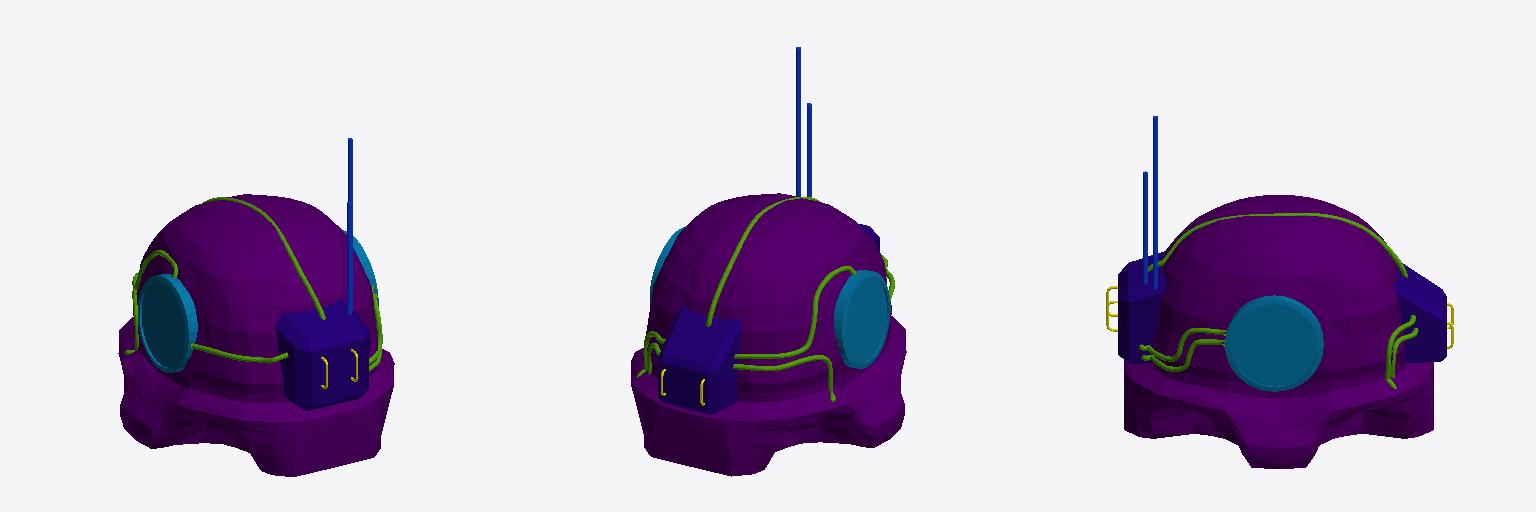
The model's file is rover.obj.
The picture shows the model from 3 angles: view 1: azimuth 30°, elevation 25°; view 2: azimuth 150°, elevation 25°; view 3: azimuth 270°, elevation 25°; orthographic projection.
Parts seen in each view (by area): view 1: body, boxes, windows, cables, antenas; view 2: body, boxes.001, windows, cables, antenas; view 3: body, windows, boxes, boxes.001, cables, antenas.
Boxes of the visible parts, box(x1,y1,x2,y2) form: body: box(118, 194, 394, 476); boxes: box(275, 299, 369, 410); windows: box(138, 230, 378, 372); cables: box(124, 197, 382, 371); antenas: box(347, 138, 352, 314); body: box(631, 193, 906, 476); boxes.001: box(658, 304, 740, 414); windows: box(650, 227, 890, 368); cables: box(636, 197, 894, 401); antenas: box(796, 47, 811, 196); body: box(1124, 195, 1433, 468); windows: box(1225, 295, 1323, 391); boxes: box(1118, 251, 1167, 363); boxes.001: box(1393, 263, 1446, 362); cables: box(1139, 213, 1418, 388); antenas: box(1143, 116, 1157, 289).
Size of the model in its own units: 2.09 by 2.51 by 2.54.